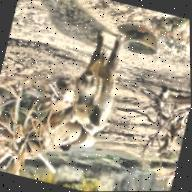boar: (61, 27, 130, 140)
